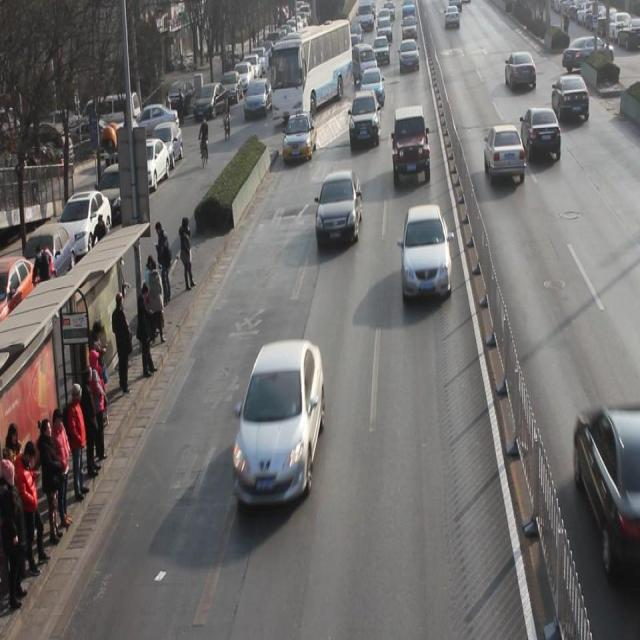car: (235, 338, 324, 512), (574, 405, 640, 579), (402, 204, 452, 301), (317, 169, 364, 247), (393, 108, 431, 186), (486, 122, 528, 186), (522, 106, 562, 164), (562, 34, 616, 72), (552, 76, 590, 126), (350, 90, 381, 148), (284, 111, 318, 163), (505, 51, 537, 92), (359, 66, 385, 108), (398, 39, 421, 74), (374, 36, 392, 66)
truck: (351, 42, 378, 88)
van: (272, 21, 351, 121)
